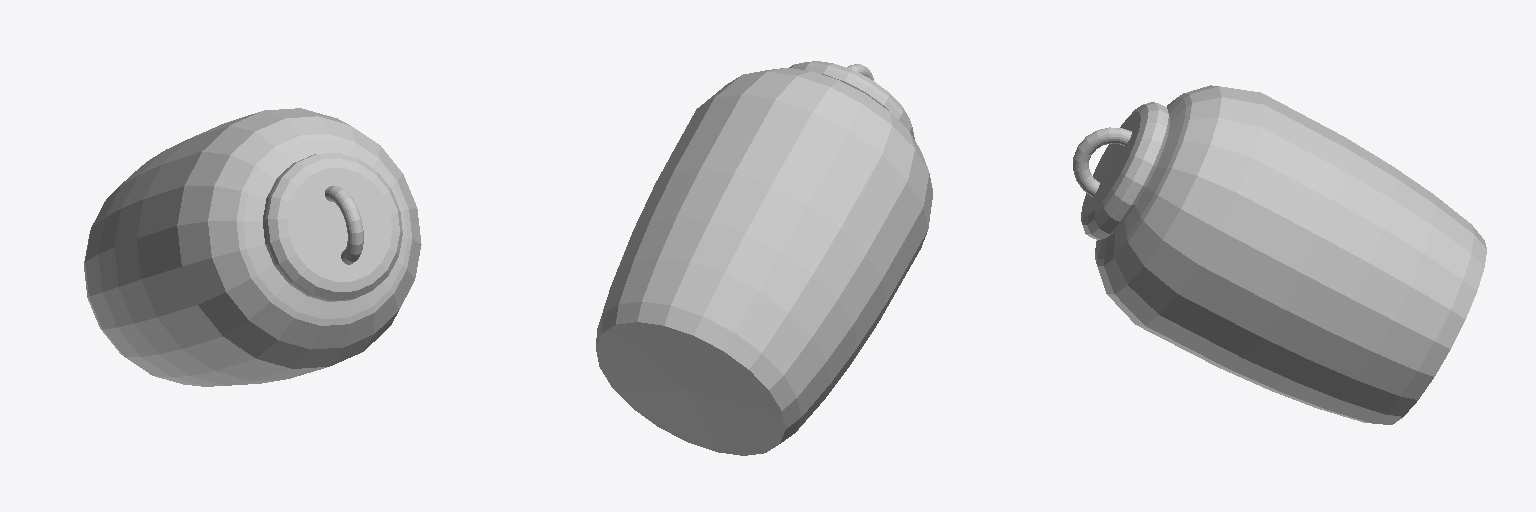
Rendered from Urn_A_3.obj.
3 renders of one model, left to right at view 1: azimuth 30°, elevation 25°; view 2: azimuth 150°, elevation 25°; view 3: azimuth 270°, elevation 25°, orthographic.
Parts seen in each view (by area): view 1: Undertaker_Attack:Undertaker_4:Undertaker_4:Urn; view 2: Undertaker_Attack:Undertaker_4:Undertaker_4:Urn; view 3: Undertaker_Attack:Undertaker_4:Undertaker_4:Urn.
Boxes of the visible parts, x1,y1,x2,y2 form: Undertaker_Attack:Undertaker_4:Undertaker_4:Urn: [84, 108, 421, 386]; Undertaker_Attack:Undertaker_4:Undertaker_4:Urn: [596, 61, 932, 455]; Undertaker_Attack:Undertaker_4:Undertaker_4:Urn: [1073, 85, 1486, 424].
Bounding box in the file's own units: 0.4718 × 0.6233 × 0.7371.